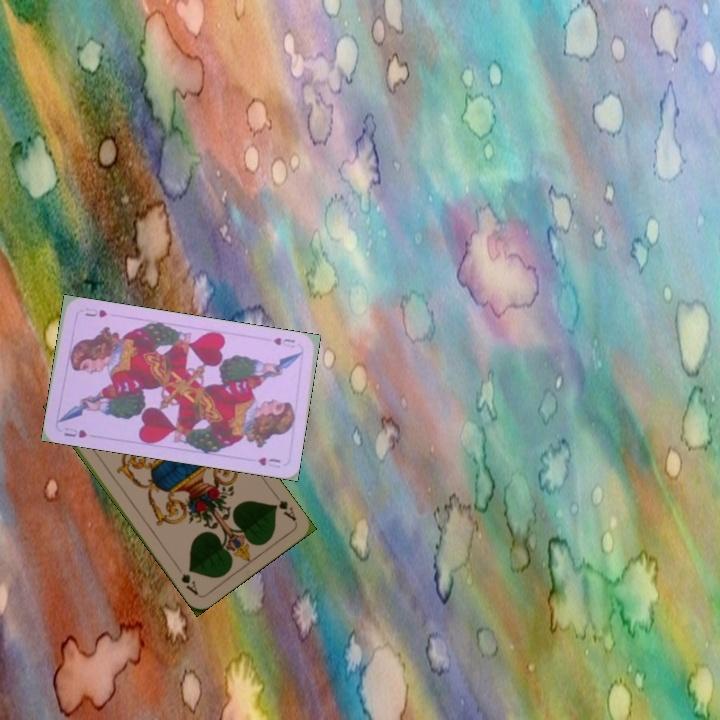GA: (269, 489, 299, 524)
HU: (269, 333, 297, 350), (60, 425, 89, 441)
